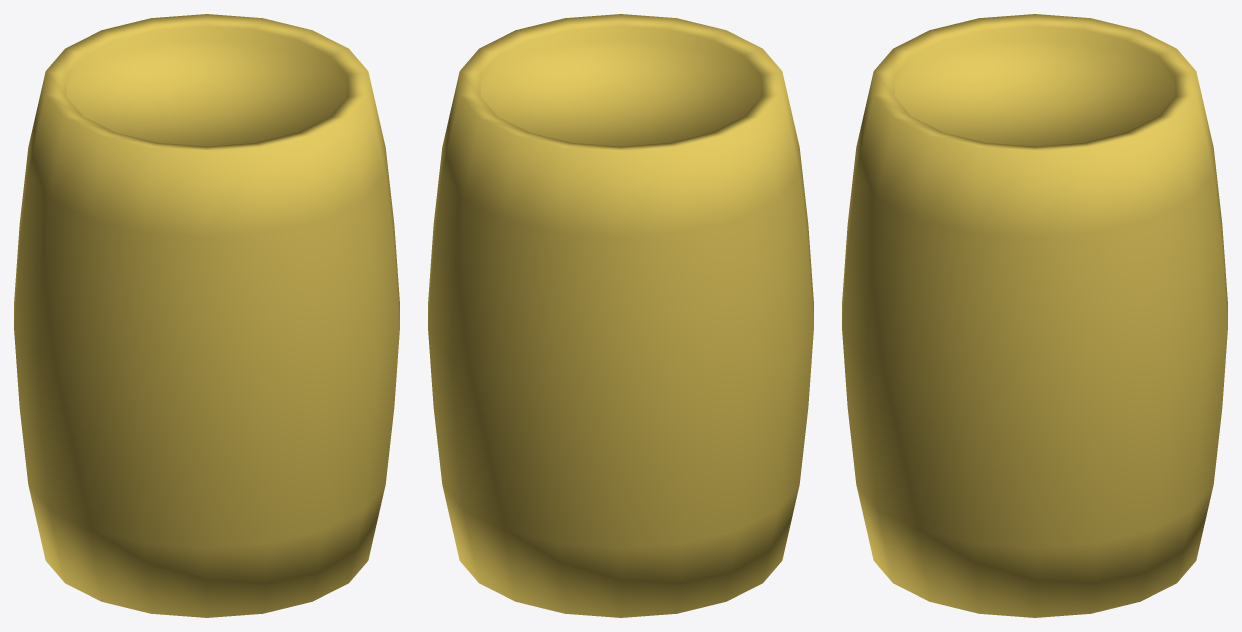
The model's file is Barrel3.obj.
3 views of the same model, side by side, from view 1: azimuth 30°, elevation 25°; view 2: azimuth 150°, elevation 25°; view 3: azimuth 270°, elevation 25° (orthographic).
Parts seen in each view (by area): view 1: Barrel3; view 2: Barrel3; view 3: Barrel3.
Part boxes in pixels (x1=…): Barrel3: x1=14, y1=14, x2=399, y2=617; Barrel3: x1=428, y1=14, x2=813, y2=617; Barrel3: x1=842, y1=14, x2=1227, y2=617.
Bounding box in the file's own units: 117 × 153 × 115.
